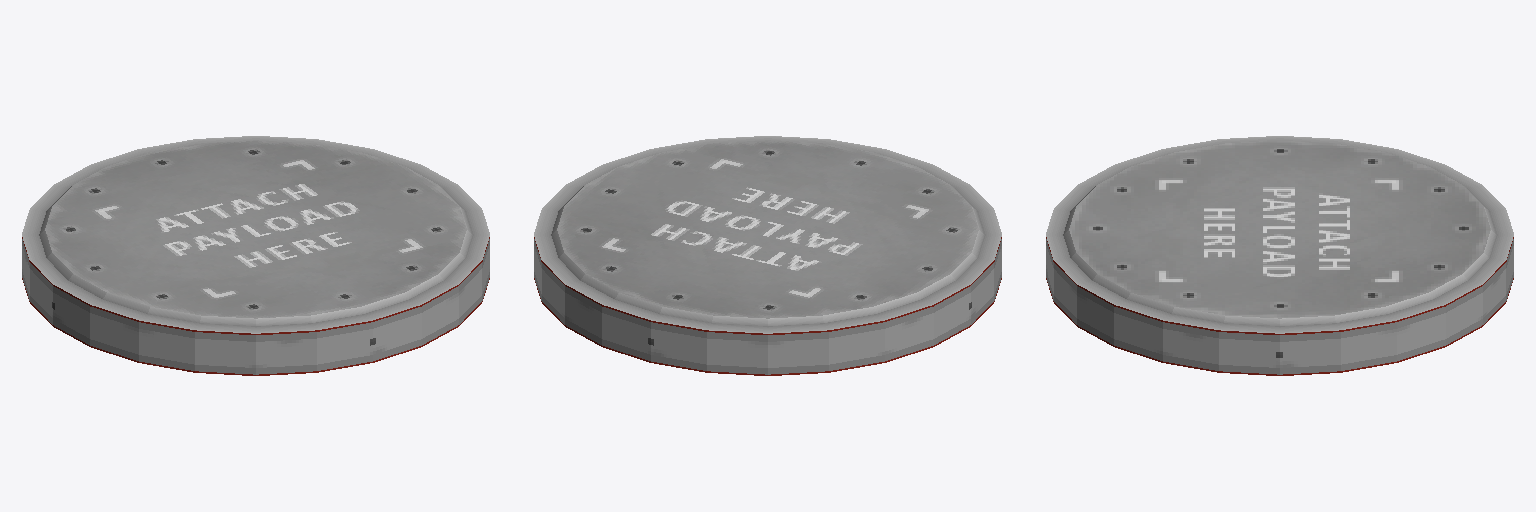
3 views of the same model, side by side, from view 1: azimuth 30°, elevation 25°; view 2: azimuth 150°, elevation 25°; view 3: azimuth 270°, elevation 25° (orthographic).
Parts seen in each view (by area): view 1: LLV_E_Fairing_1; view 2: LLV_E_Fairing_1; view 3: LLV_E_Fairing_1.
Boxes of the visible parts, box(x1,y1,x2,y2) form: LLV_E_Fairing_1: box(22, 136, 489, 375); LLV_E_Fairing_1: box(534, 136, 1001, 375); LLV_E_Fairing_1: box(1046, 136, 1513, 375).
Size of the model in its own units: 1.25 by 0.1562 by 1.25.
1 materials, 1 textured.